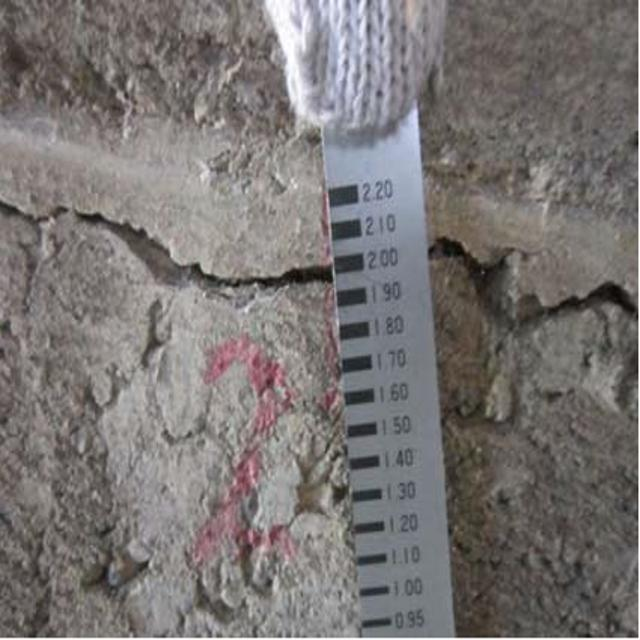crack: (4, 188, 330, 318), (435, 202, 640, 347)
